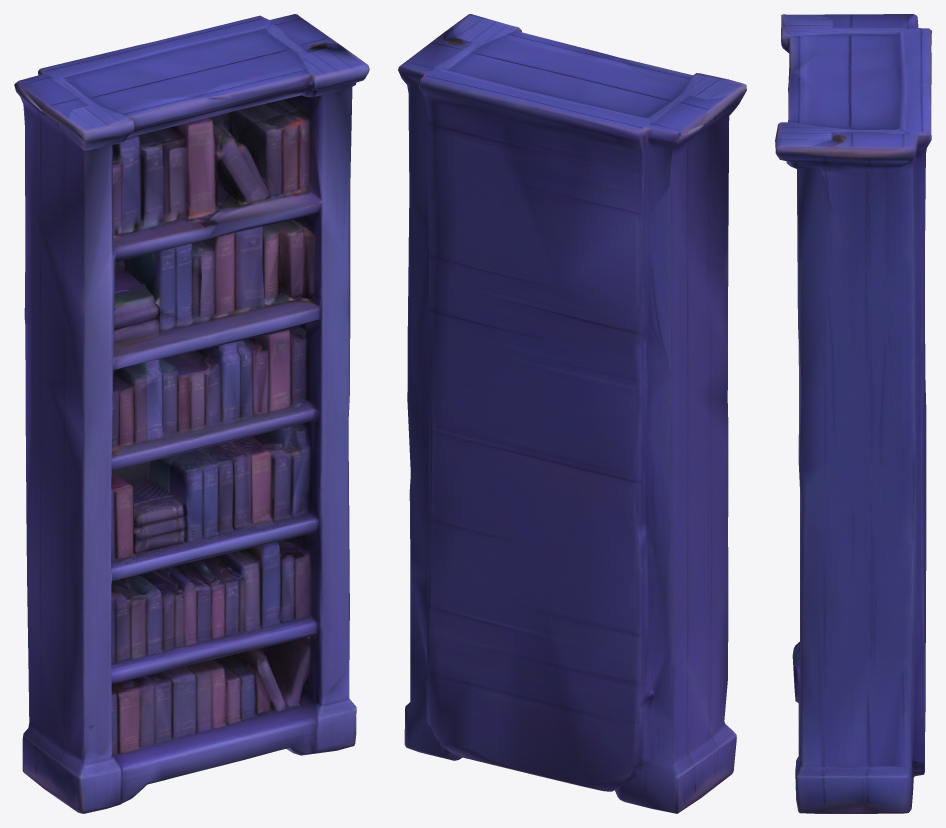
File: Meshy_AI_The_Violet_Library_0627154410_texture.fbx
3 views of the same model, side by side, from view 1: azimuth 30°, elevation 25°; view 2: azimuth 150°, elevation 25°; view 3: azimuth 270°, elevation 25° (orthographic). The views are drawn at different scales.
Visible parts, largest first — view 1: Mesh_0; view 2: Mesh_0; view 3: Mesh_0.
Part boxes in pixels (x1,y1,x2,y2): Mesh_0: [14, 14, 369, 813]; Mesh_0: [398, 14, 746, 813]; Mesh_0: [775, 14, 931, 813].
Bounding box in the file's own units: 86.35 × 200 × 42.48.
Materials: 1 (1 with a texture image).
